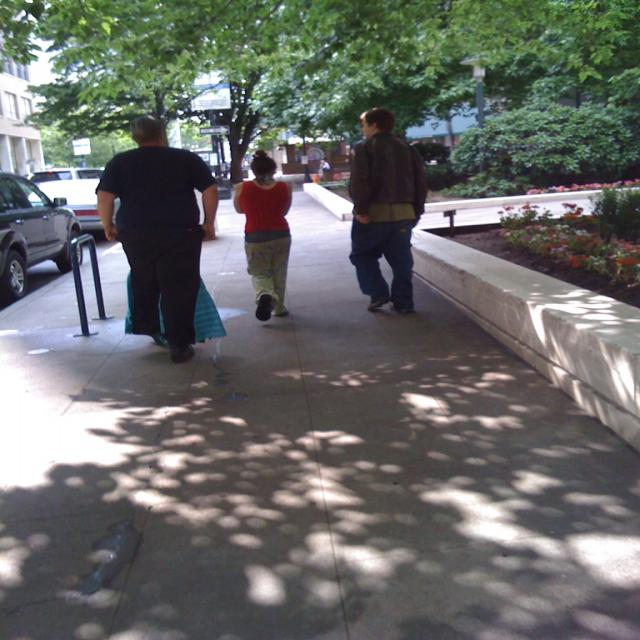other: (3, 160, 99, 309), (29, 179, 123, 233), (28, 167, 100, 178), (412, 142, 450, 162)
